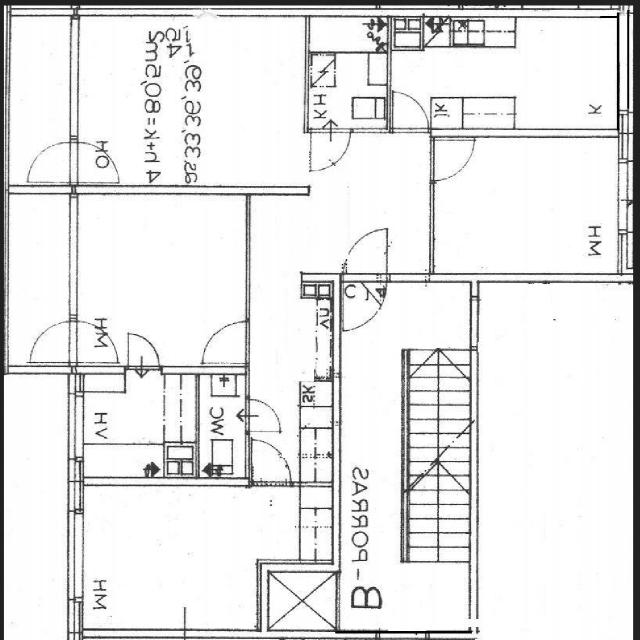door: (344, 230, 386, 282), (29, 320, 79, 362), (70, 320, 120, 362), (344, 274, 386, 324), (30, 142, 79, 182), (70, 142, 119, 182), (204, 321, 250, 363), (311, 129, 352, 175), (430, 140, 475, 181), (252, 442, 292, 486), (393, 94, 428, 134), (127, 334, 159, 374), (245, 399, 282, 431)
